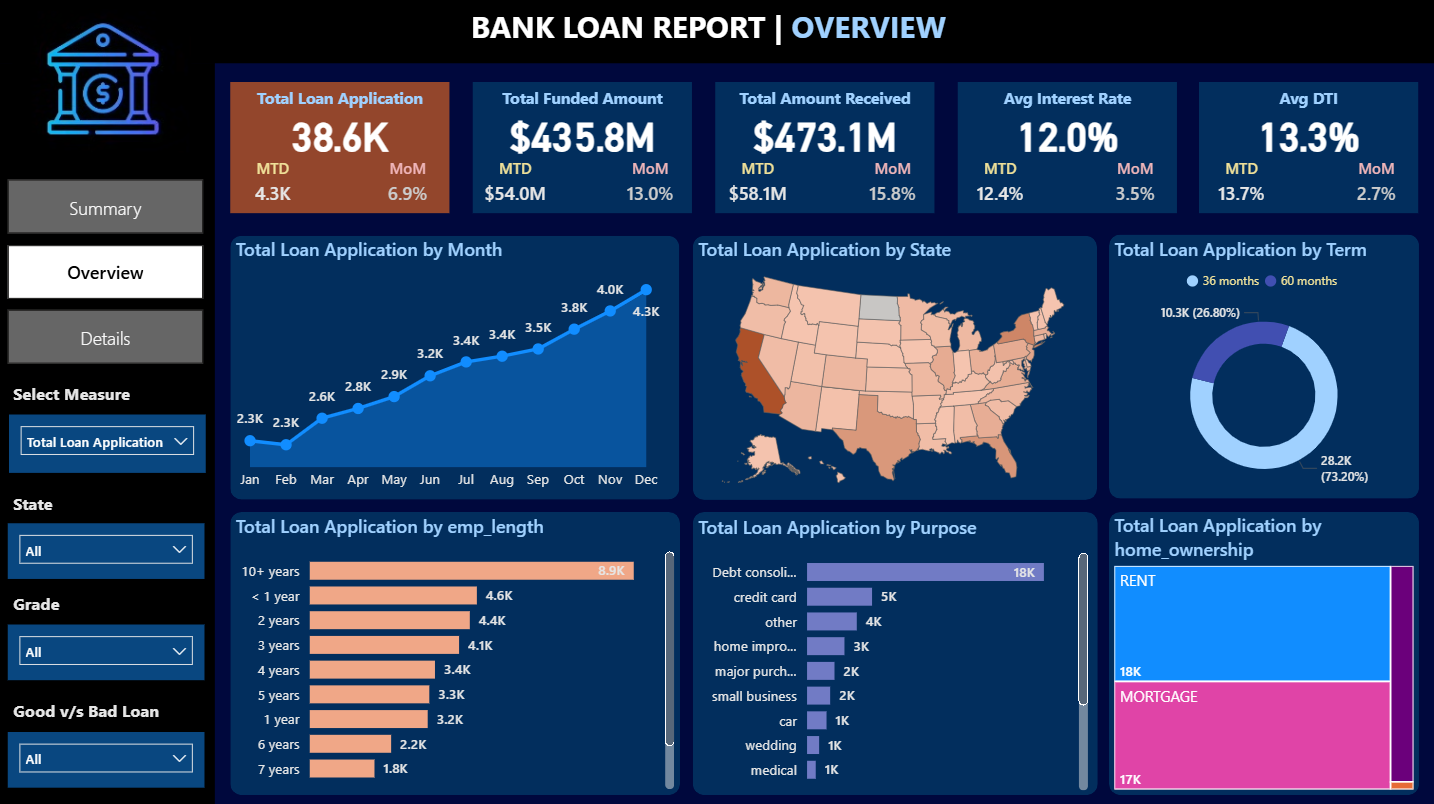

What the dashboard file says about the page in this screenshot:
{"tool":"powerbi","page":{"name":"Overview","canvas":[1280,720],"ordinal":1},"visuals":[{"type":"shape","box":[206.3,76,195.4,117],"z":0,"group":"g1"},{"type":"shape","box":[422,76,195.4,117],"z":0,"group":"g2"},{"type":"shape","box":[637.6,76,195.4,117],"z":0,"group":"g3"},{"type":"shape","box":[853.3,76,195.4,117],"z":0,"group":"g4"},{"type":"shape","box":[1068.9,76,195.4,117],"z":0,"group":"g5"},{"type":"shape","box":[206.3,212.3,400,235],"z":0},{"type":"shape","box":[0,0,1280.3,59],"z":1000},{"type":"card","fields":{"Values":["DAX Measures.Total Loan Application"]},"box":[206.3,92.9,195.4,59.1],"z":1000,"group":"g1"},{"type":"card","fields":{"Values":["DAX Measures.Total Funded Amount"]},"box":[422,92.9,195.4,59.1],"z":1000,"group":"g2"},{"type":"card","fields":{"Values":["DAX Measures.Total Amount Received"]},"box":[637.6,92.9,195.4,59.1],"z":1000,"group":"g3"},{"type":"card","fields":{"Values":["DAX Measures.Average Interest Rate"]},"box":[853.3,92.9,195.4,59.1],"z":1000,"group":"g4"},{"type":"card","fields":{"Values":["DAX Measures.Average DTI"]},"box":[1068.9,92.9,195.4,59.1],"z":1000,"group":"g5"},{"type":"shape","box":[0,59.1,192,661.1],"z":2000},{"type":"textbox","box":[206.3,76,195.4,33.8],"z":2000,"group":"g1"},{"type":"textbox","box":[422,76,195.4,33.8],"z":2000,"group":"g2"},{"type":"textbox","box":[637.6,76,195.4,33.8],"z":2000,"group":"g3"},{"type":"textbox","box":[853.3,76,195.4,33.8],"z":2000,"group":"g4"},{"type":"textbox","box":[1068.9,76,195.4,33.8],"z":2000,"group":"g5"},{"type":"textbox","box":[415,3.6,448.8,50.7],"z":3000},{"type":"card","title":"MTD","fields":{"Values":["DAX Measures.MTD Loan Application"]},"box":[206.3,143.6,76,49.5],"z":3000,"group":"g1"},{"type":"card","title":"MTD","fields":{"Values":["DAX Measures.MTD Funded Amount"]},"box":[422,143.6,76,49.5],"z":3000,"group":"g2"},{"type":"card","title":"MTD","fields":{"Values":["DAX Measures.MTD Total Amount Received"]},"box":[637.6,143.6,76,49.5],"z":3000,"group":"g3"},{"type":"card","title":"MTD","fields":{"Values":["DAX Measures.MTD Avg Int Rate"]},"box":[853.3,143.6,76,49.5],"z":3000,"group":"g4"},{"type":"card","title":"MTD","fields":{"Values":["DAX Measures.MTD Avg DTI"]},"box":[1068.9,143.6,76,49.5],"z":3000,"group":"g5"},{"type":"group","id":"g1","title":"Group 1","box":[206.3,76,195.4,117],"z":4000},{"type":"card","title":"MoM","fields":{"Values":["DAX Measures.MoM Loan Application"]},"box":[328.2,143.6,73.6,49.5],"z":4000,"group":"g1"},{"type":"card","title":"MoM","fields":{"Values":["DAX Measures.MoM Funded Amount"]},"box":[543.9,143.6,73.6,49.5],"z":4000,"group":"g2"},{"type":"card","title":"MoM","fields":{"Values":["DAX Measures.MoM Total Amount Received"]},"box":[759.5,143.6,73.6,49.5],"z":4000,"group":"g3"},{"type":"card","title":"MoM","fields":{"Values":["DAX Measures.MoM Avg Int Rate"]},"box":[975.2,143.6,73.6,49.5],"z":4000,"group":"g4"},{"type":"card","title":"MoM","fields":{"Values":["DAX Measures.MoM AVG DTI"]},"box":[1190.8,143.6,73.6,49.5],"z":4000,"group":"g5"},{"type":"group","id":"g2","title":"Group 1","box":[422,76,195.4,117],"z":5000},{"type":"group","id":"g3","title":"Group 1","box":[637.6,76,195.4,117],"z":6000},{"type":"group","id":"g4","title":"Group 1","box":[853.3,76,195.4,117],"z":7000},{"type":"group","id":"g5","title":"Group 1","box":[1068.9,76,195.4,117],"z":8000},{"type":"shape","box":[0,58.9,192,661.1],"z":9000},{"type":"slicer","fields":{"Values":["bank_loan_data.address_state"]},"box":[7.2,468.6,174.9,49.5],"z":10000},{"type":"textbox","box":[7.2,436,88.1,33.8],"z":11000},{"type":"slicer","fields":{"Values":["bank_loan_data.grade"]},"box":[7.2,559.1,174.9,49.5],"z":12000},{"type":"textbox","box":[7.2,525.3,88.1,33.8],"z":13000},{"type":"slicer","fields":{"Values":["bank_loan_data.Good v/s Bad Loan"]},"box":[7.2,654.4,174.9,49.5],"z":14000},{"type":"textbox","box":[7.2,620.6,174.9,33.8],"z":15000},{"type":"areaChart","fields":{"Y":["DAX Measures.Total Loan Application"],"Category":["Date Table.Month"]},"box":[206.3,212.3,388.5,235.3],"z":16000},{"type":"slicer","fields":{"Values":["Select Measure.Select Measure"]},"box":[8.4,372.1,174.9,51.9],"z":17000},{"type":"textbox","box":[7.2,338.3,147.2,33.8],"z":18000},{"type":"shape","box":[617.7,212.3,360,235.3],"z":19000},{"type":"shapeMap","fields":{"Value":["DAX Measures.Total Loan Application"],"Category":["bank_loan_data.address_state"]},"box":[617.7,212.3,357.1,235.3],"z":20000},{"type":"shape","box":[988.1,211.1,276.3,235.3],"z":21000},{"type":"donutChart","fields":{"Y":["DAX Measures.Total Loan Application"],"Category":["bank_loan_data.term"]},"box":[988.1,212.3,276.3,235.3],"z":22000},{"type":"shape","box":[206.3,458.4,400.5,252.1],"z":23000},{"type":"barChart","fields":{"Y":["DAX Measures.Total Loan Application"],"Category":["bank_loan_data.emp_length"]},"box":[206.3,459.7,400.5,250.9],"z":24000},{"type":"shape","box":[617.7,458.4,360.7,252.1],"z":25000},{"type":"barChart","fields":{"Y":["DAX Measures.Total Loan Application"],"Category":["bank_loan_data.purpose"]},"box":[617.7,460.9,357.1,250.9],"z":26000},{"type":"shape","box":[988.1,458.4,276.3,252.1],"z":27000},{"type":"treemap","fields":{"Values":["DAX Measures.Total Loan Application"],"Group":["bank_loan_data.home_ownership"]},"box":[988.1,458.4,276.3,252.1],"z":28000},{"type":"pageNavigator","box":[7.2,162.9,174.9,166.5],"z":28001},{"type":"image","box":[0,0,183.4,143.6],"z":28002}]}

Visuals, with their boxes in screenshot pixels (x1, y1, x2, y2), scaled from the page's 1280x720 canvas onto the 1434x804 screenshot:
shape: box=[231, 85, 450, 216]
shape: box=[473, 85, 692, 216]
shape: box=[714, 85, 933, 216]
shape: box=[956, 85, 1175, 216]
shape: box=[1198, 85, 1416, 216]
shape: box=[231, 237, 679, 499]
shape: box=[0, 0, 1433, 66]
card - DAX Measures.Total Loan Application: box=[231, 104, 450, 170]
card - DAX Measures.Total Funded Amount: box=[473, 104, 692, 170]
card - DAX Measures.Total Amount Received: box=[714, 104, 933, 170]
card - DAX Measures.Average Interest Rate: box=[956, 104, 1175, 170]
card - DAX Measures.Average DTI: box=[1198, 104, 1416, 170]
shape: box=[0, 66, 215, 803]
textbox: box=[231, 85, 450, 123]
textbox: box=[473, 85, 692, 123]
textbox: box=[714, 85, 933, 123]
textbox: box=[956, 85, 1175, 123]
textbox: box=[1198, 85, 1416, 123]
textbox: box=[465, 4, 968, 61]
"MTD" card: box=[231, 160, 316, 216]
"MTD" card: box=[473, 160, 558, 216]
"MTD" card: box=[714, 160, 799, 216]
"MTD" card: box=[956, 160, 1041, 216]
"MTD" card: box=[1198, 160, 1283, 216]
"Group 1" group: box=[231, 85, 450, 216]
"MoM" card: box=[368, 160, 450, 216]
"MoM" card: box=[609, 160, 692, 216]
"MoM" card: box=[851, 160, 933, 216]
"MoM" card: box=[1093, 160, 1175, 216]
"MoM" card: box=[1334, 160, 1417, 216]
"Group 1" group: box=[473, 85, 692, 216]
"Group 1" group: box=[714, 85, 933, 216]
"Group 1" group: box=[956, 85, 1175, 216]
"Group 1" group: box=[1198, 85, 1416, 216]
shape: box=[0, 66, 215, 803]
slicer - bank_loan_data.address_state: box=[8, 523, 204, 579]
textbox: box=[8, 487, 107, 525]
slicer - bank_loan_data.grade: box=[8, 624, 204, 680]
textbox: box=[8, 587, 107, 624]
slicer - bank_loan_data.Good v/s Bad Loan: box=[8, 731, 204, 786]
textbox: box=[8, 693, 204, 731]
areaChart - DAX Measures.Total Loan Application x Date Table.Month: box=[231, 237, 666, 500]
slicer - Select Measure.Select Measure: box=[9, 416, 205, 473]
textbox: box=[8, 378, 173, 416]
shape: box=[692, 237, 1095, 500]
shapeMap - DAX Measures.Total Loan Application x bank_loan_data.address_state: box=[692, 237, 1092, 500]
shape: box=[1107, 236, 1417, 498]
donutChart - DAX Measures.Total Loan Application x bank_loan_data.term: box=[1107, 237, 1417, 500]
shape: box=[231, 512, 680, 793]
barChart - DAX Measures.Total Loan Application x bank_loan_data.emp_length: box=[231, 513, 680, 794]
shape: box=[692, 512, 1096, 793]
barChart - DAX Measures.Total Loan Application x bank_loan_data.purpose: box=[692, 515, 1092, 795]
shape: box=[1107, 512, 1417, 793]
treemap - DAX Measures.Total Loan Application x bank_loan_data.home_ownership: box=[1107, 512, 1417, 793]
pageNavigator: box=[8, 182, 204, 368]
image: box=[0, 0, 205, 160]
